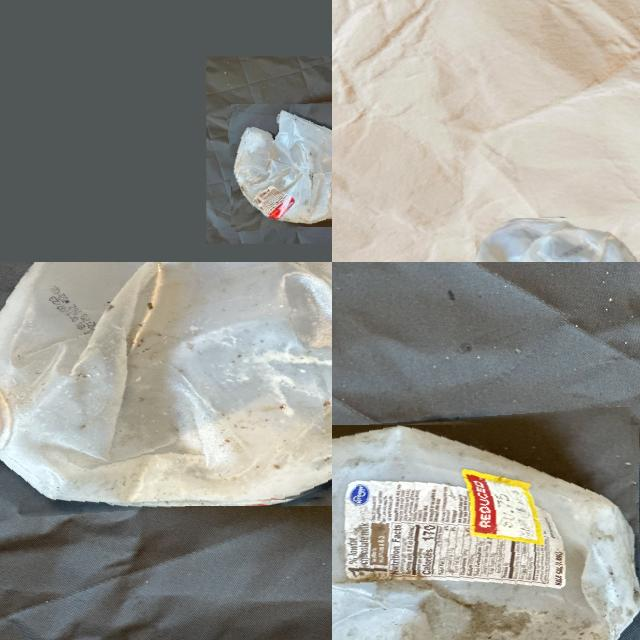milk-jug: (0, 262, 332, 514), (332, 415, 640, 640), (228, 101, 332, 229), (474, 215, 640, 262)
